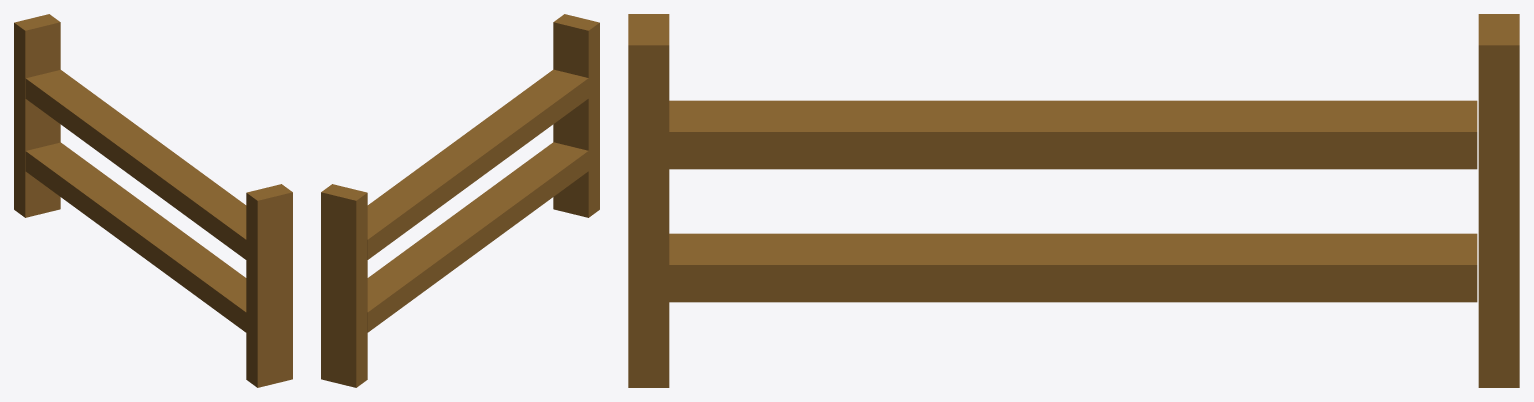
File: fence.fbx
3 renders of one model, left to right at view 1: azimuth 30°, elevation 25°; view 2: azimuth 150°, elevation 25°; view 3: azimuth 270°, elevation 25°, orthographic. The views are drawn at different scales.
Parts seen in each view (by area): view 1: Plane.002, Plane.003, Plane, Plane.001; view 2: Plane.002, Plane.003, Plane.001, Plane; view 3: Plane.002, Plane.003, Plane.001, Plane.
Part boxes in pixels (<box>): Plane.002: <box>25,142,246,332</box>; Plane.003: <box>25,70,246,259</box>; Plane: <box>246,184,292,387</box>; Plane.001: <box>14,14,60,217</box>; Plane.002: <box>367,142,588,332</box>; Plane.003: <box>367,69,588,259</box>; Plane.001: <box>321,184,367,387</box>; Plane: <box>553,14,599,217</box>; Plane.002: <box>668,233,1477,302</box>; Plane.003: <box>668,100,1477,169</box>; Plane.001: <box>1478,14,1519,387</box>; Plane: <box>628,14,669,387</box>.
Size of the model in its own units: 78.88 by 400 by 944.
